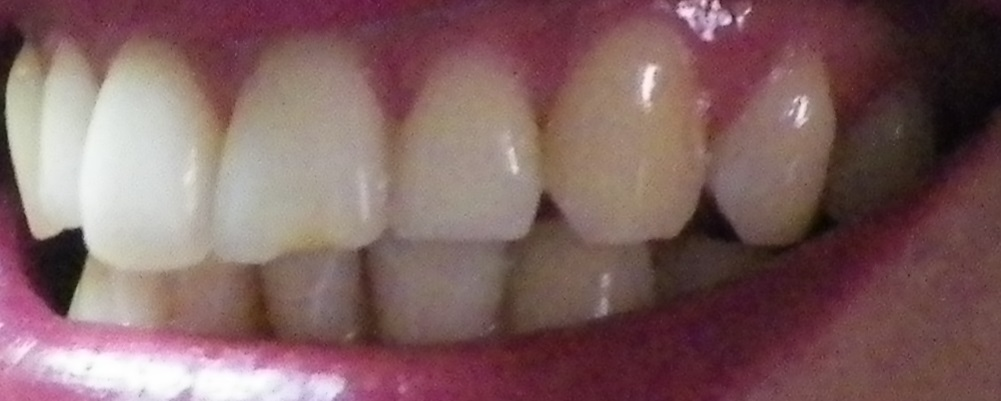boca: (11, 20, 913, 334)
